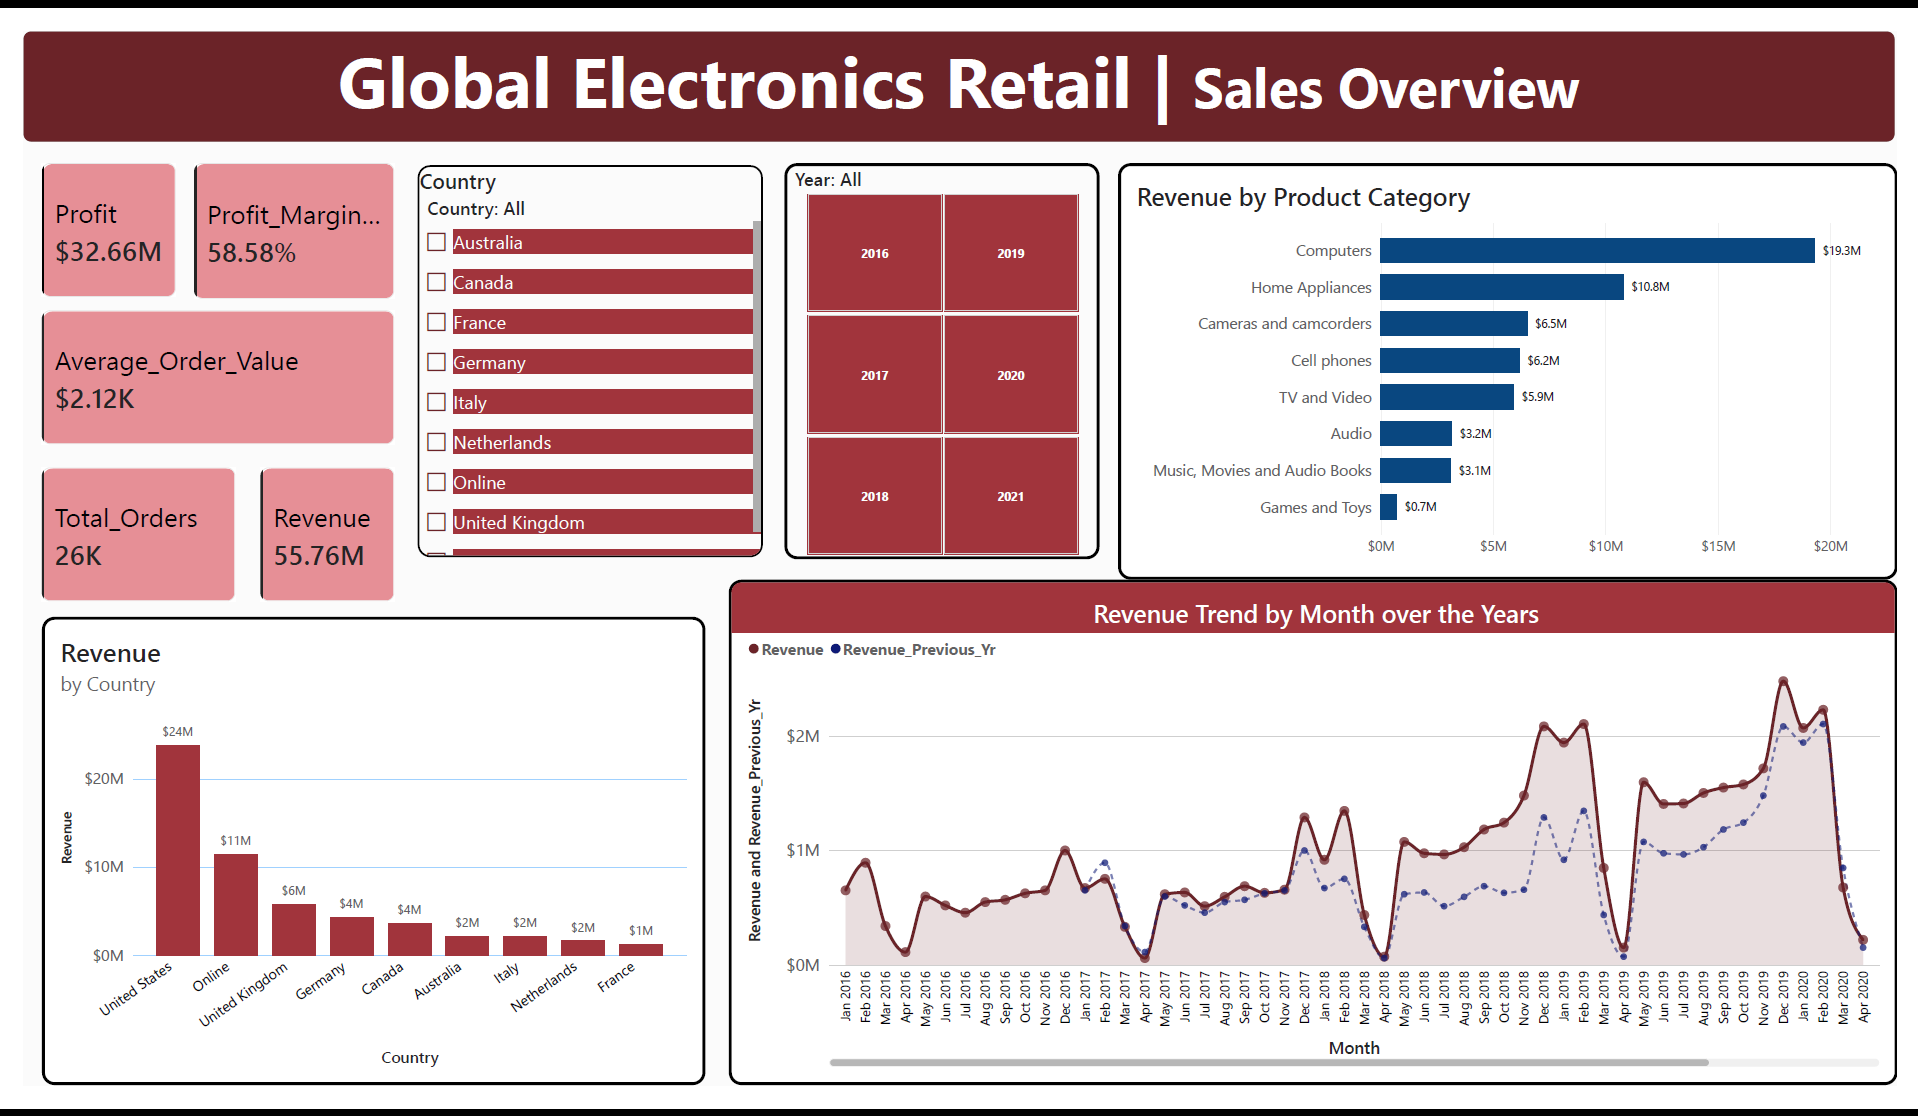

This screenshot's page, from the dashboard's own definition file:
{"tool":"powerbi","page":{"name":"Dashboard","canvas":[1920,1080],"ordinal":0},"visuals":[{"type":"cardVisual","fields":{"Data":["Sales_Exchage_Merge.Revenue"]},"box":[243.4,446.5,137,137],"z":0},{"type":"cardVisual","fields":{"Data":["Sales_Exchage_Merge.Profit"]},"box":[18.9,134.7,137,137],"z":1000},{"type":"cardVisual","fields":{"Data":["Sales_Exchage_Merge.Total_Orders"]},"box":[18.9,446.5,198.5,137],"z":2000},{"type":"cardVisual","fields":{"Data":["Sales_Exchage_Merge.Average_Order_Value"]},"box":[18.9,285.9,361.5,137],"z":3000},{"type":"clusteredBarChart","title":"Revenue by Product Category","fields":{"Y":["Sales_Exchage_Merge.Revenue"],"Category":["Products.Category"]},"box":[1122.2,134.7,798.6,427.6],"z":4000},{"type":"slicer","fields":{"Values":["Date_Table.Year"]},"box":[779.7,134.7,323.7,406.4],"z":5000},{"type":"slicer","title":"Country","fields":{"Values":["Stores.Country"]},"box":[404,137,354.4,401.6],"z":6000},{"type":"lineChart","title":"Revenue Trend by Month over the Years","fields":{"Y":["Sales_Exchage_Merge.Revenue","Sales_Exchage_Merge.Revenue_Previous_Yr"],"Category":["Date_Table.Date Hierarchy.Month","Date_Table.Date Hierarchy.Year"]},"box":[723,562.3,1197.8,517.4],"z":7000},{"type":"cardVisual","fields":{"Data":["Sales_Exchage_Merge.Profit_Margin %"]},"box":[174.8,134.7,205.5,139.4],"z":8000},{"type":"columnChart","fields":{"Category":["Stores.Country"],"Y":["Sales_Exchage_Merge.Revenue"]},"box":[18.9,600.1,680.4,479.6],"z":9000},{"type":"textbox","box":[0,0,1918.4,113.4],"z":10000}]}

Visuals, with their boxes in screenshot pixels (x1, y1, x2, y2):
cardVisual - Sales_Exchage_Merge.Revenue: x1=245, y1=465, x2=380, y2=600
cardVisual - Sales_Exchage_Merge.Profit: x1=24, y1=158, x2=159, y2=293
cardVisual - Sales_Exchage_Merge.Total_Orders: x1=24, y1=465, x2=219, y2=600
cardVisual - Sales_Exchage_Merge.Average_Order_Value: x1=24, y1=307, x2=380, y2=442
"Revenue by Product Category" clusteredBarChart: x1=1111, y1=158, x2=1897, y2=579
slicer - Date_Table.Year: x1=773, y1=158, x2=1092, y2=558
"Country" slicer: x1=403, y1=160, x2=752, y2=556
"Revenue Trend by Month over the Years" lineChart: x1=717, y1=579, x2=1897, y2=1089
cardVisual - Sales_Exchage_Merge.Profit_Margin %: x1=177, y1=158, x2=380, y2=295
columnChart - Stores.Country x Sales_Exchage_Merge.Revenue: x1=24, y1=616, x2=694, y2=1089
textbox: x1=5, y1=25, x2=1895, y2=137
